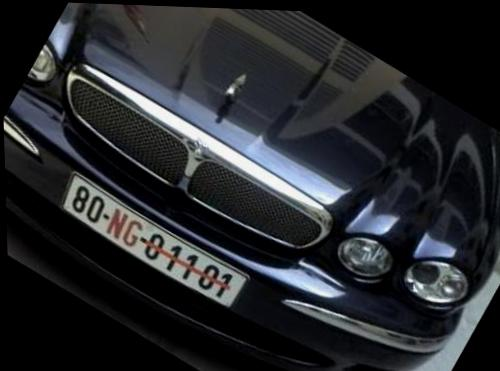License_Plate: (58, 166, 257, 323)
